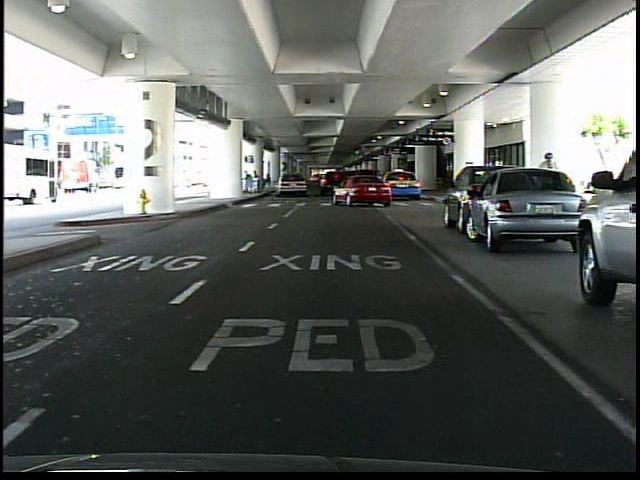person: (538, 149, 564, 233)
